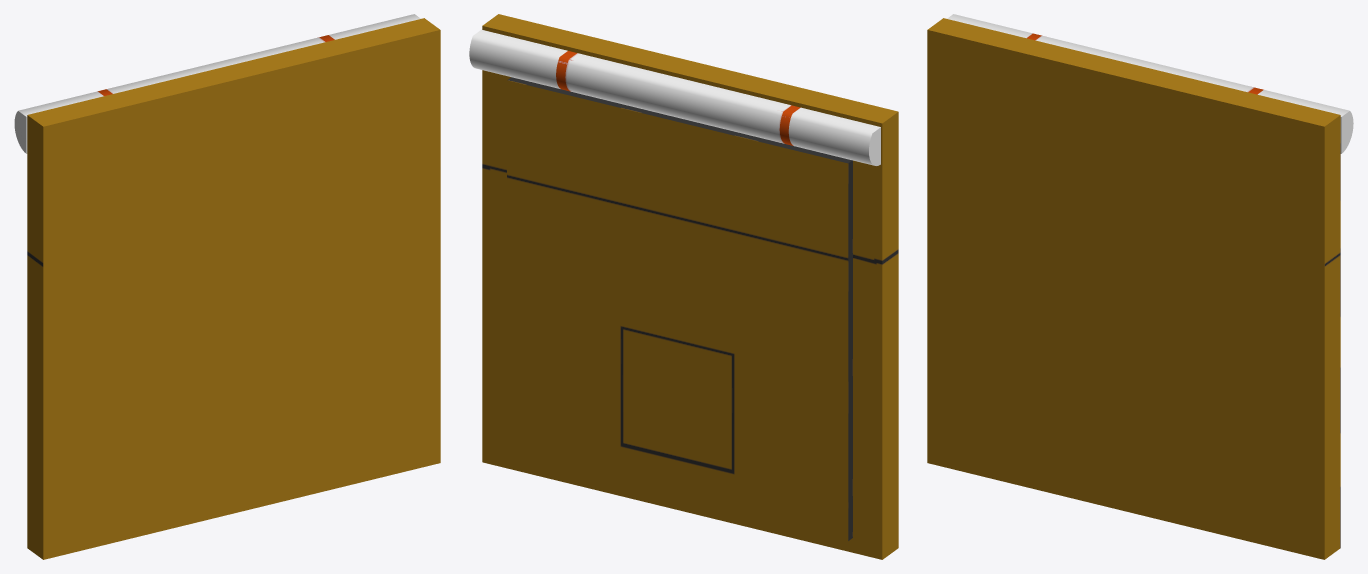
Rendered from wallText.fbx.
The picture shows the model from 3 angles, left to right: view 1: azimuth 30°, elevation 25°; view 2: azimuth 150°, elevation 25°; view 3: azimuth 330°, elevation 25°; orthographic projection.
Parts seen in each view (by area): view 1: wall, Cylinder; view 2: wall, Cylinder; view 3: wall, Cylinder.
Boxes of the visible parts, box(x1,y1,x2,y2) form: wall: box(27, 18, 440, 559); Cylinder: box(14, 14, 420, 153); wall: box(482, 14, 898, 559); Cylinder: box(469, 29, 880, 165); wall: box(927, 18, 1340, 559); Cylinder: box(947, 14, 1353, 153).
Bounding box in the file's own units: 262 × 273 × 33.41.
Materials: 2 (2 with a texture image).
